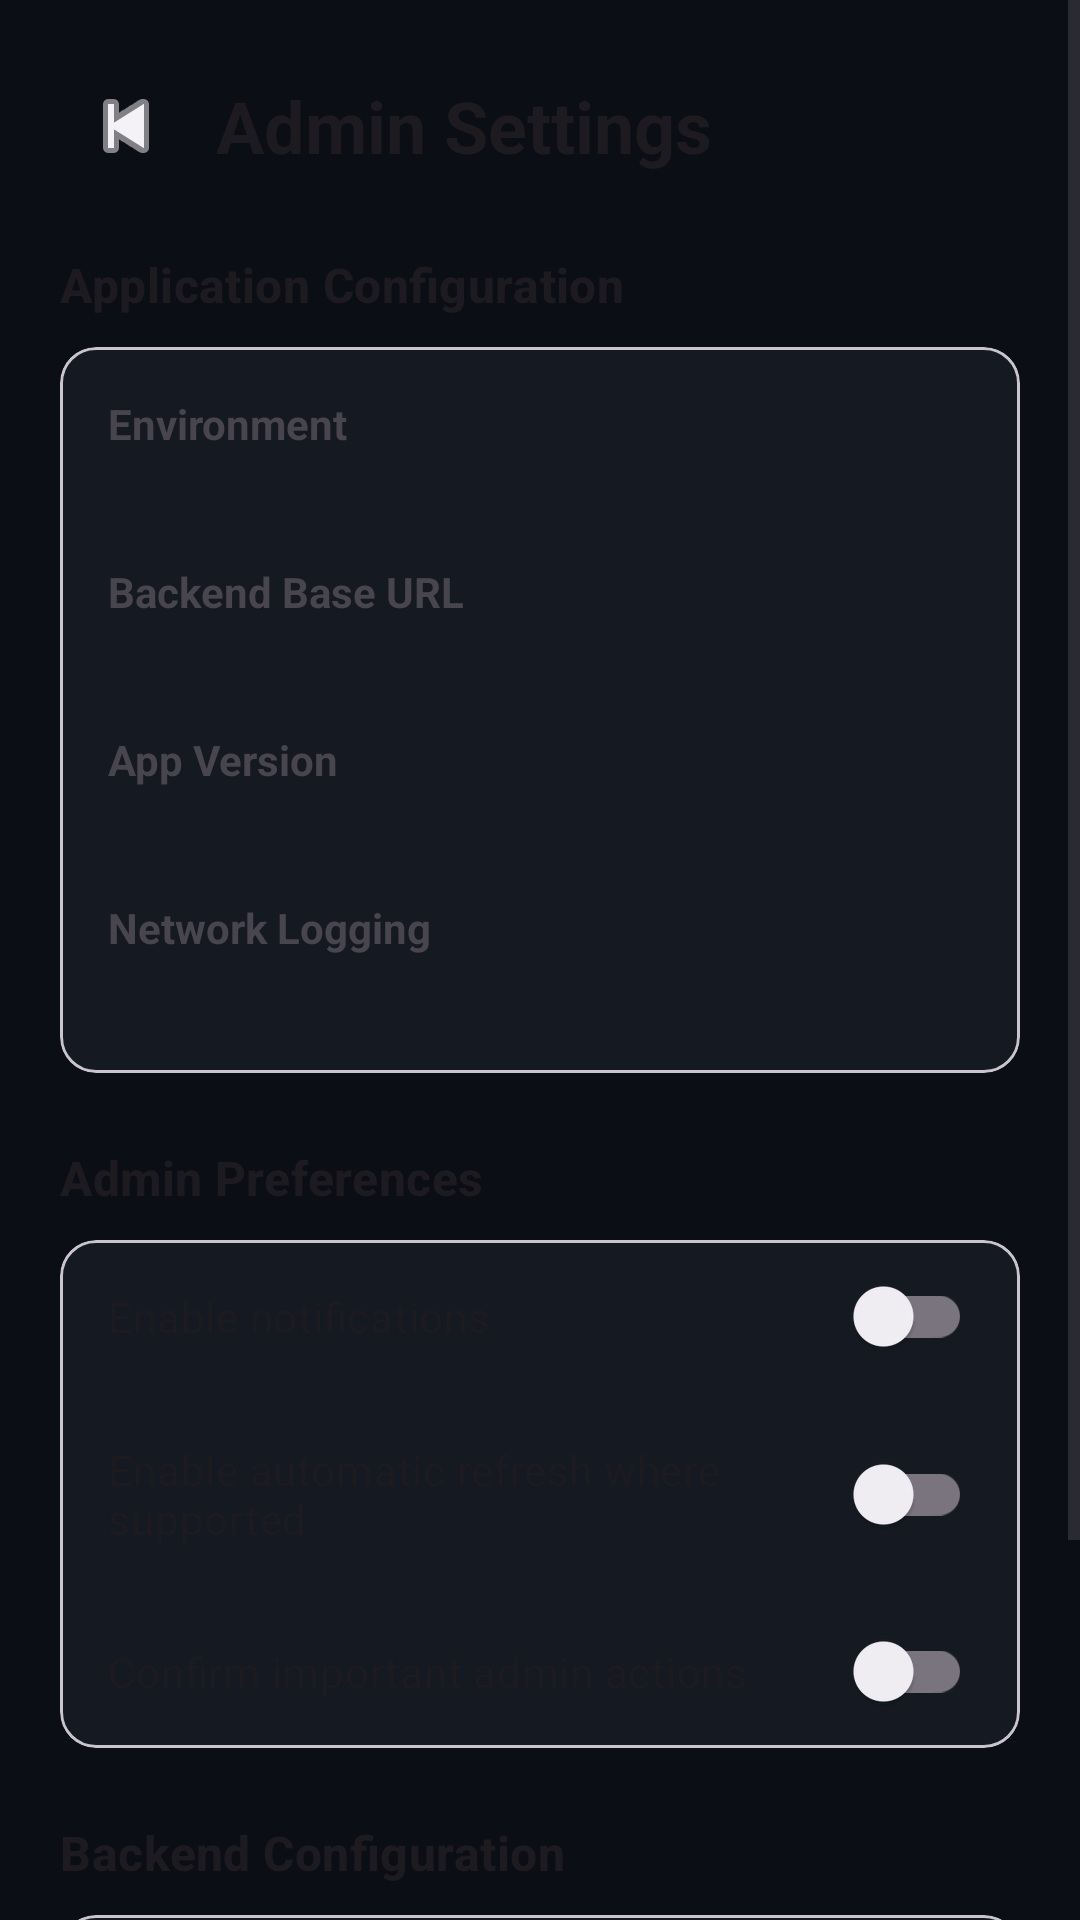

Named icons in this screenshot (1080px×1920px) and their centers, point (x, y):
Back to admin dashboard: point (126, 126)
